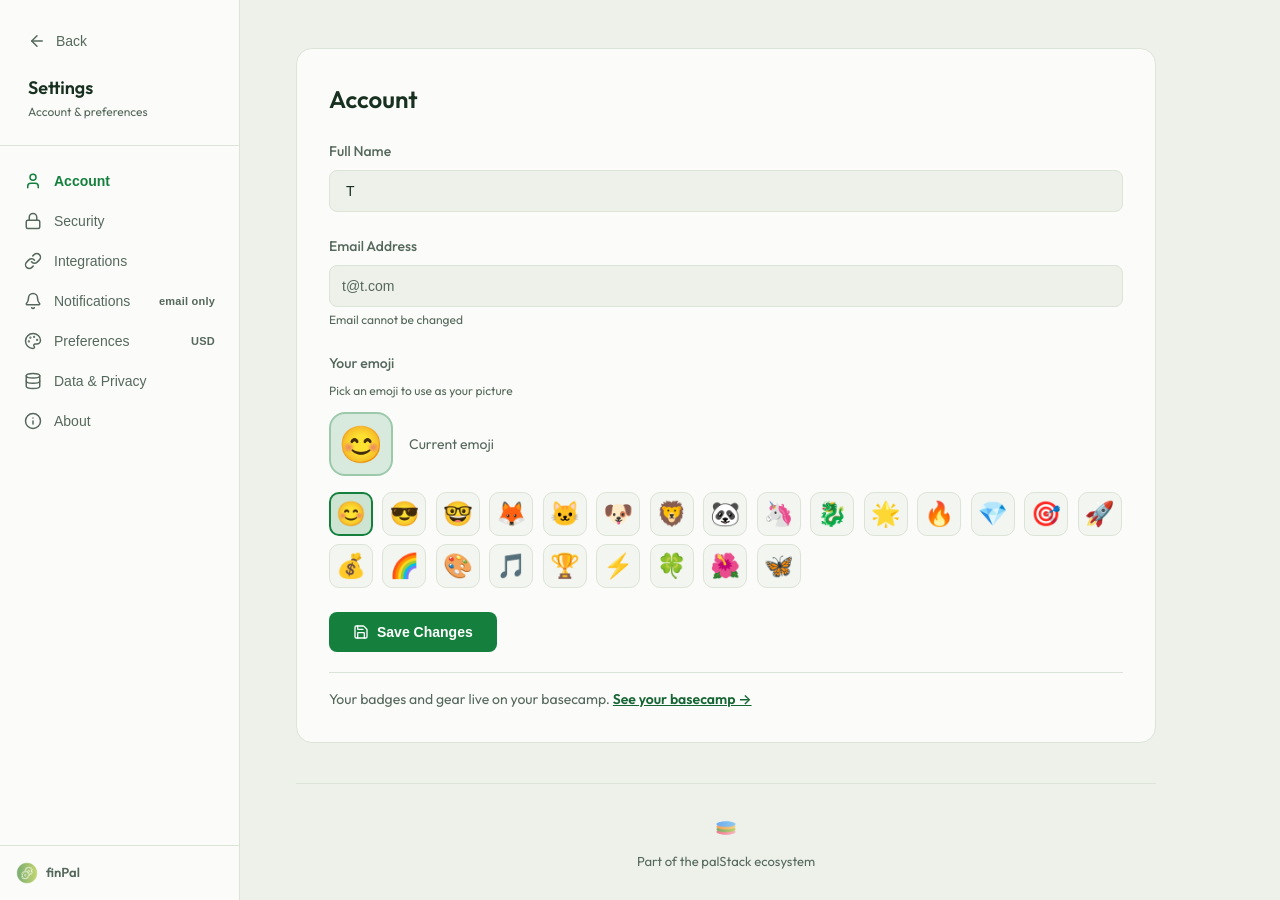
Scenario: Settings — an error belongs to the form that produced it (#145) › shows the password error on the Security tab
The width and height of the screenshot is (1280, 900).
Expected: the text "Security" is shown, [54,213,105,229]
Step 1. Click the button "Security" → x=120, y=221, box [12,202,227,240]
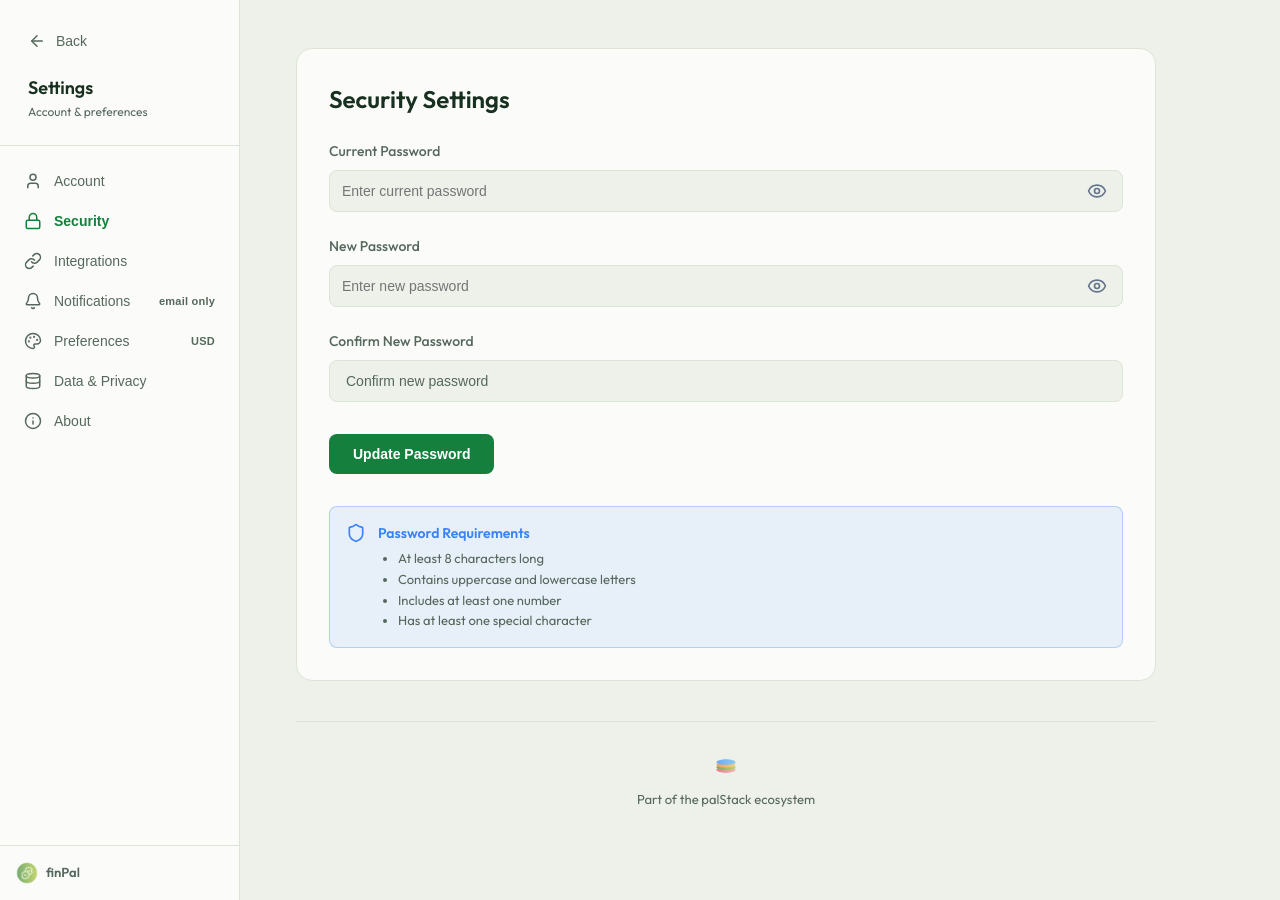
Step 2. Type "whatever" into the password field with placeholder "Enter current password" → x=726, y=191, box [329,170,1123,212]
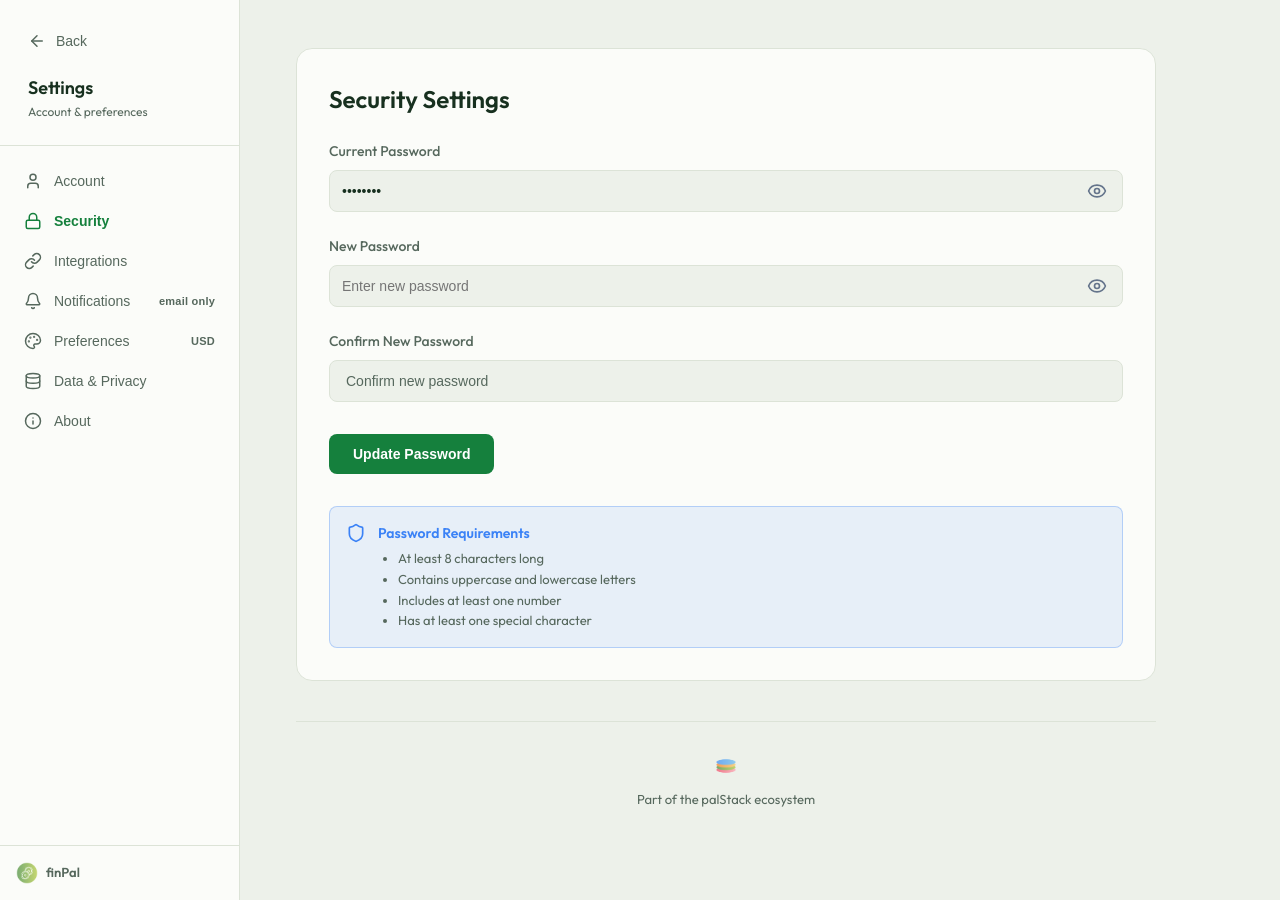
Step 3. Type "newpassword123" into the password field with placeholder "Enter new password" → x=726, y=286, box [329,265,1123,307]
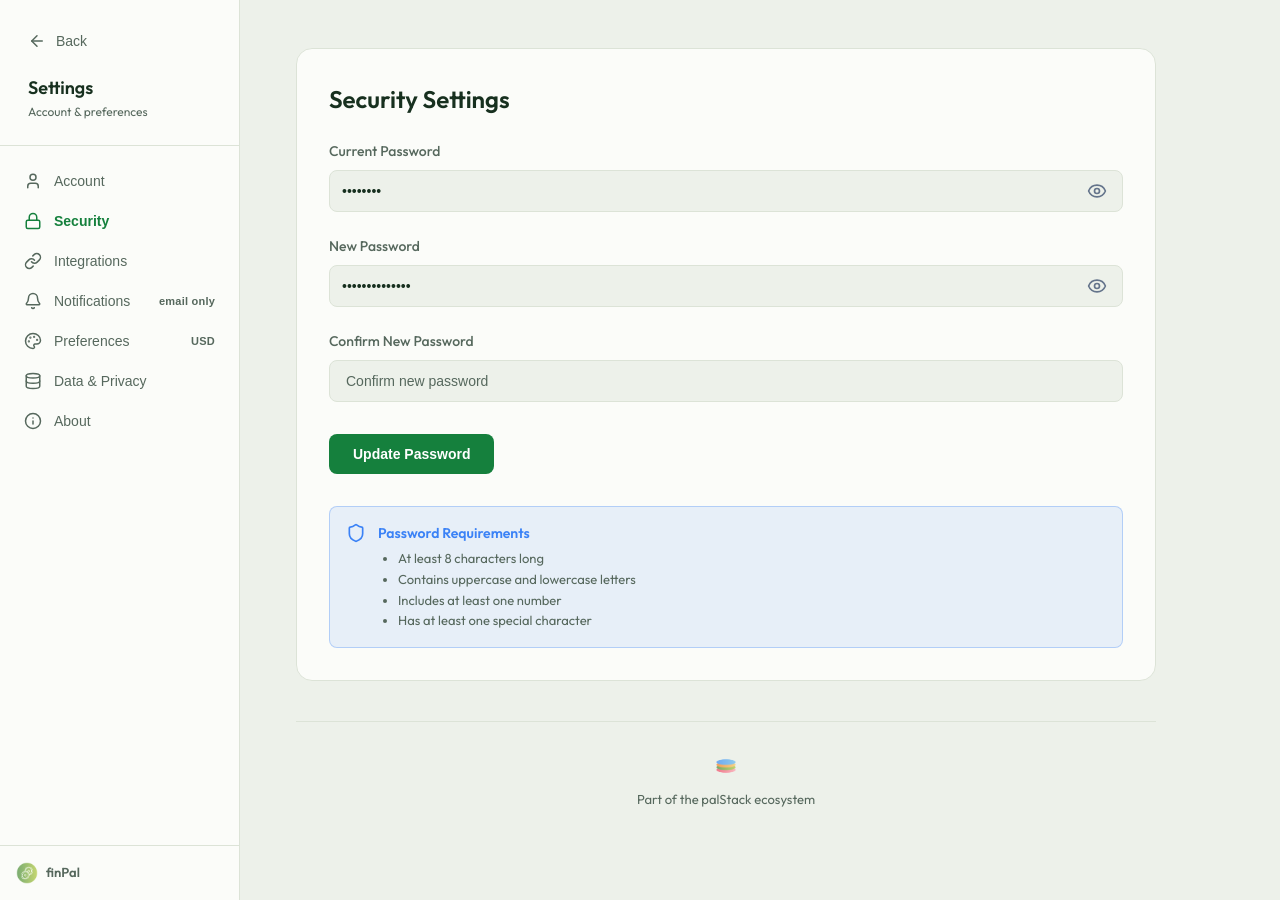
Step 4. Type "DIFFERENT-password" into the password field with placeholder "Confirm new password" → x=726, y=381, box [329,360,1123,402]
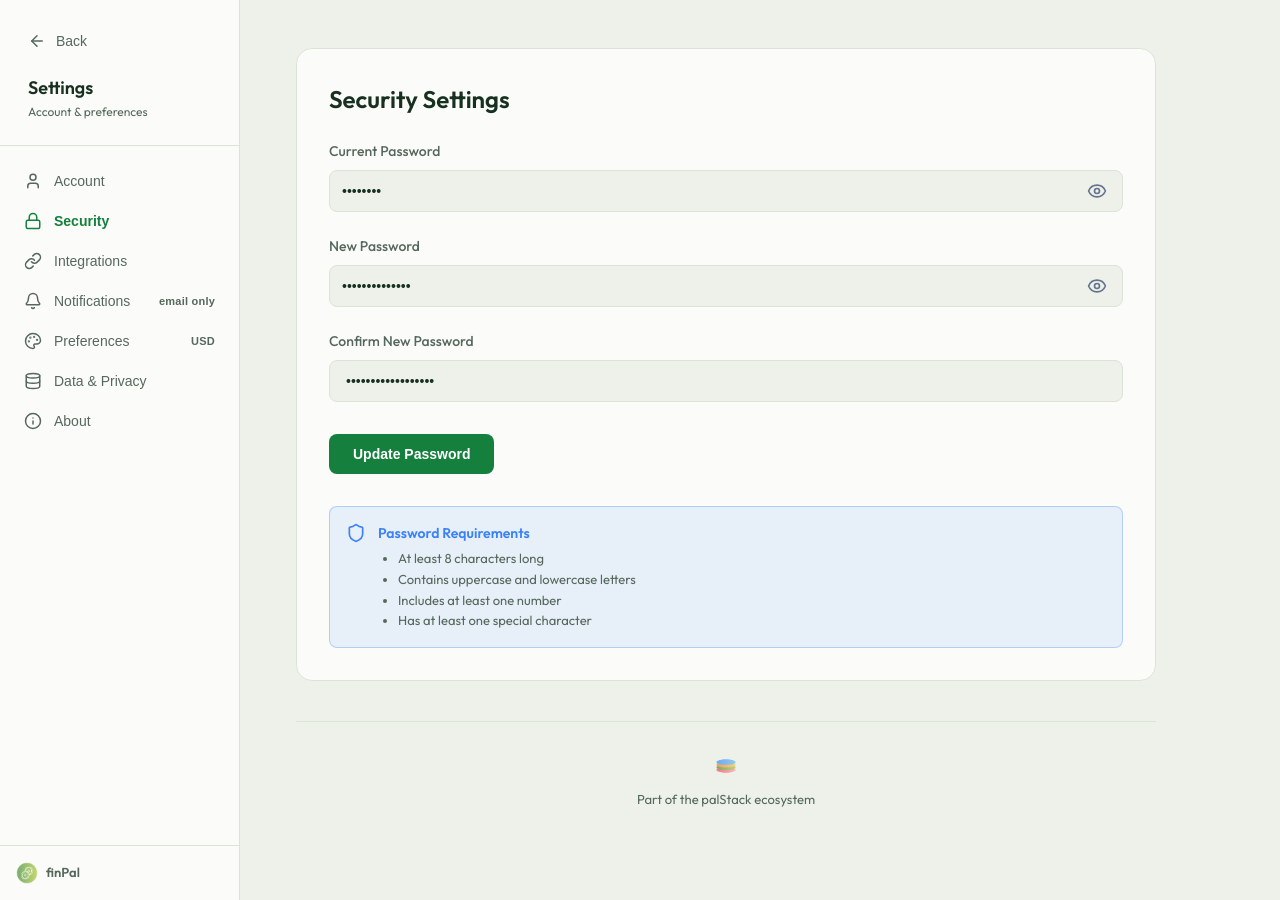
Step 5. Click the button "Update Password" → x=412, y=454, box [329,434,494,474]
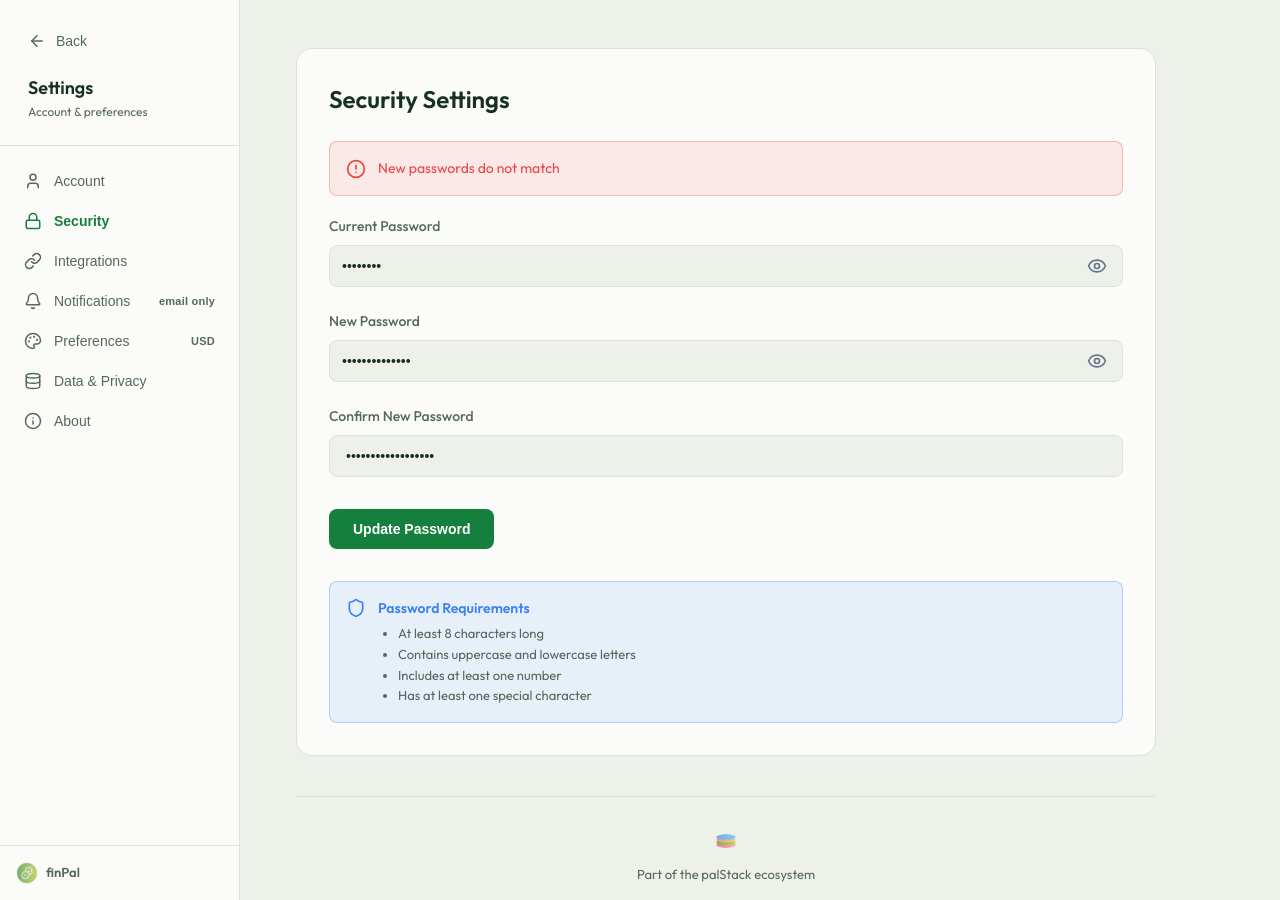
Result: the text "New passwords do not match" is shown at [378,158,560,179]
